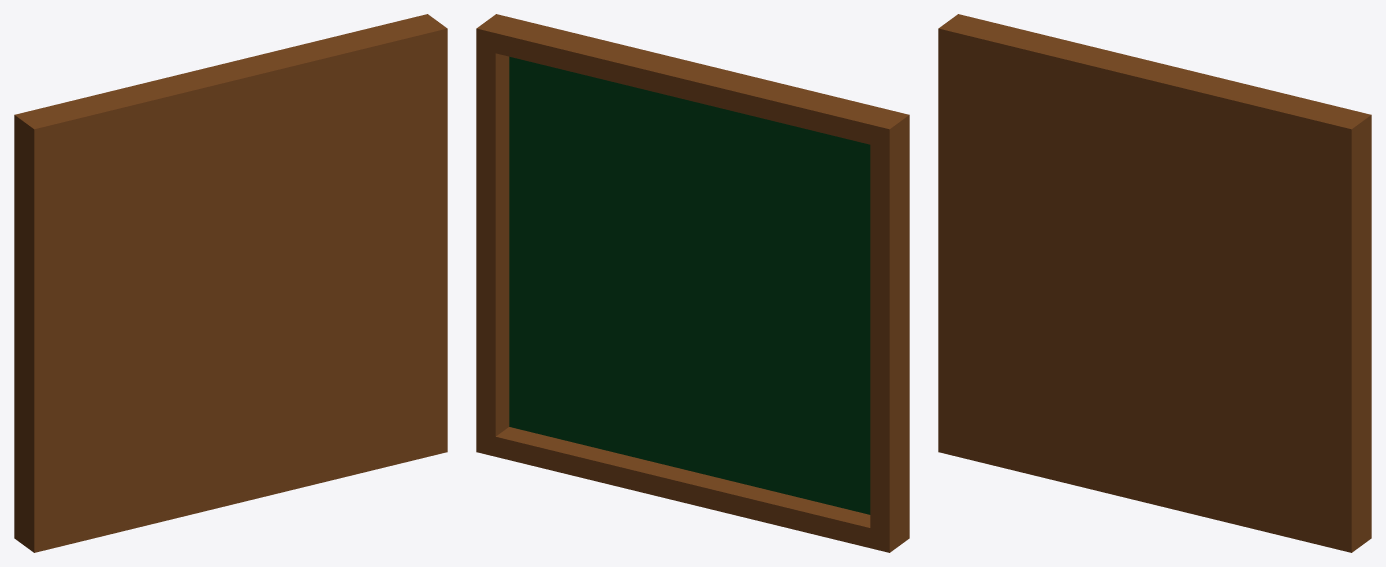
File: smallBoard.fbx
The picture shows the model from 3 angles, left to right: view 1: azimuth 30°, elevation 25°; view 2: azimuth 150°, elevation 25°; view 3: azimuth 330°, elevation 25°; orthographic projection.
Visible parts, largest first — view 1: Cube.031; view 2: Cube.031; view 3: Cube.031.
Boxes of the visible parts, bbox=[...] form: Cube.031: bbox=[14, 14, 447, 552]; Cube.031: bbox=[476, 14, 909, 552]; Cube.031: bbox=[938, 14, 1371, 552].
Size of the model in its own units: 4449 by 377 by 4542.
